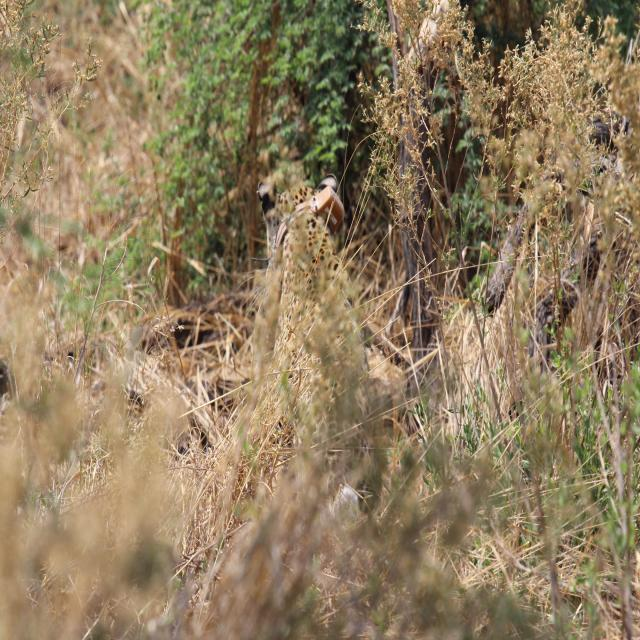Leopard: (249, 150, 381, 576)
